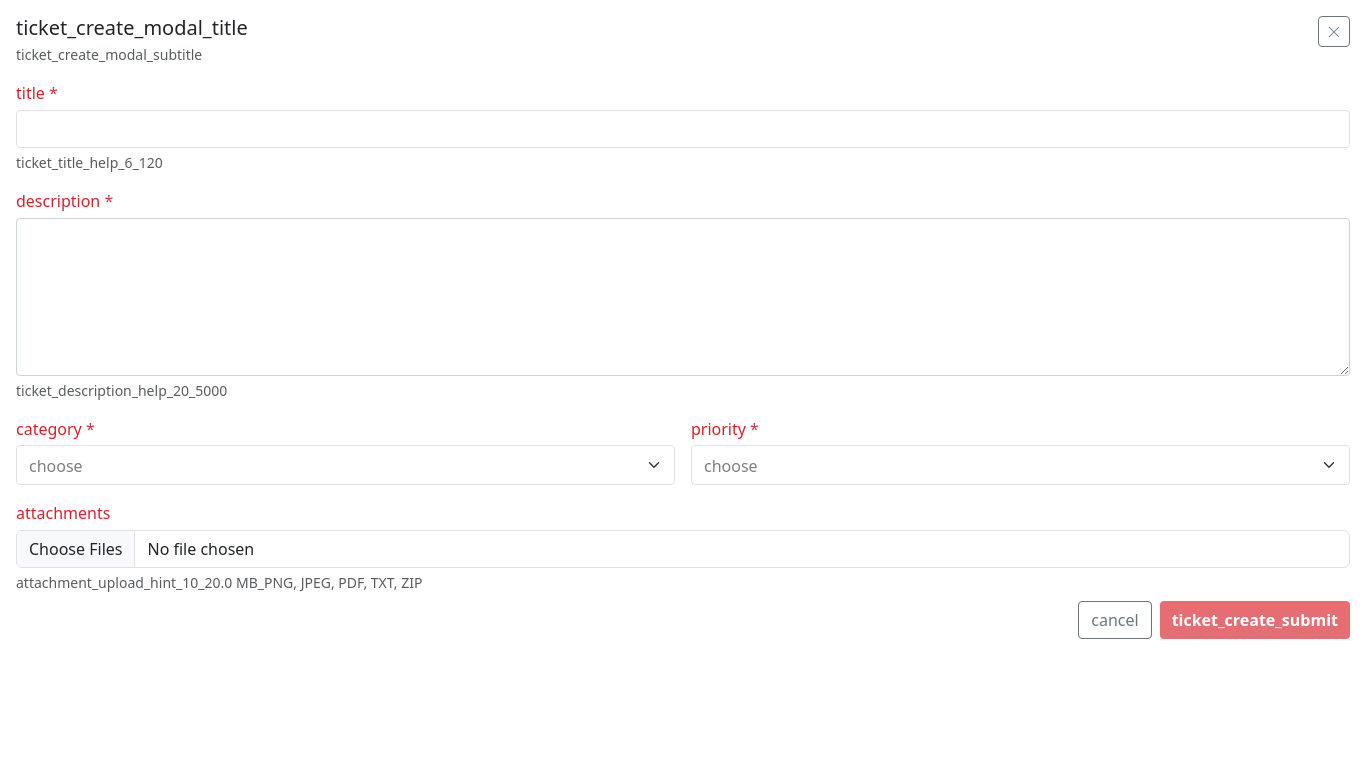
TicketFormModal › shows backend field errors and does not close modal
Type "Valid ticket title" into the field with id "ticket-title". click: (683, 129)
box: [16,110,1350,148]
Type "This is a sufficiently long description for a ticket (>= 20 chars)." into the text box with id "ticket-description". click: (683, 297)
box: [16,218,1350,376]
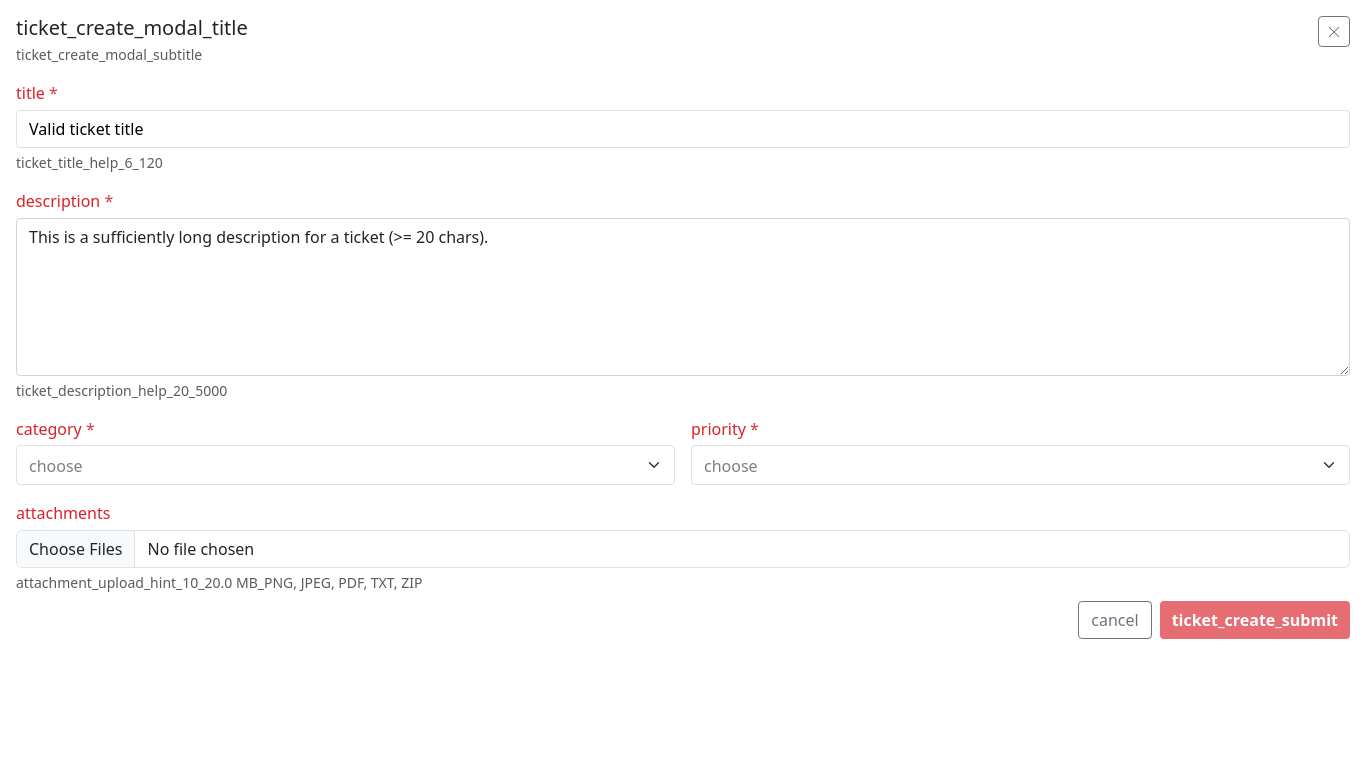
Click the button with id "ticket-category". click: click(56, 466)
box: [16,445,675,485]
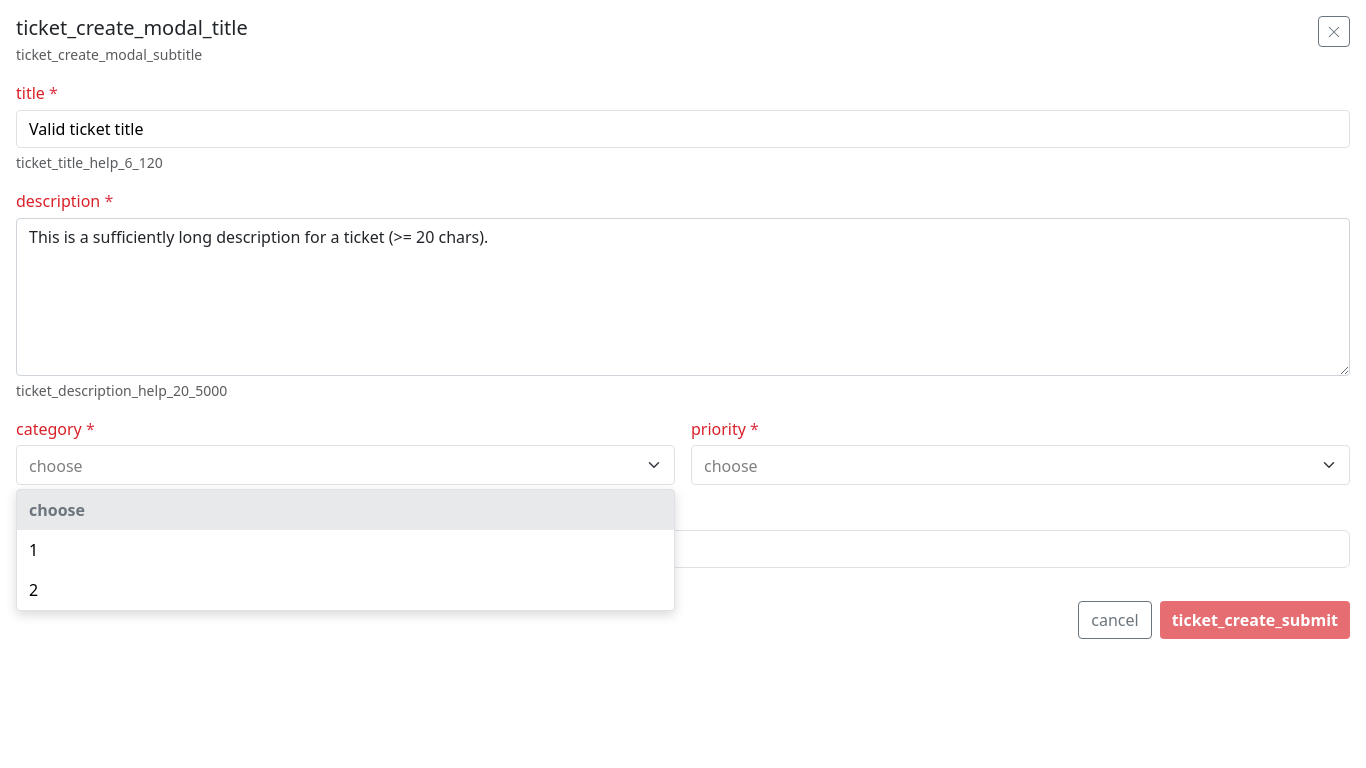
Click the option "1". click: click(34, 550)
box: [17,530,674,570]
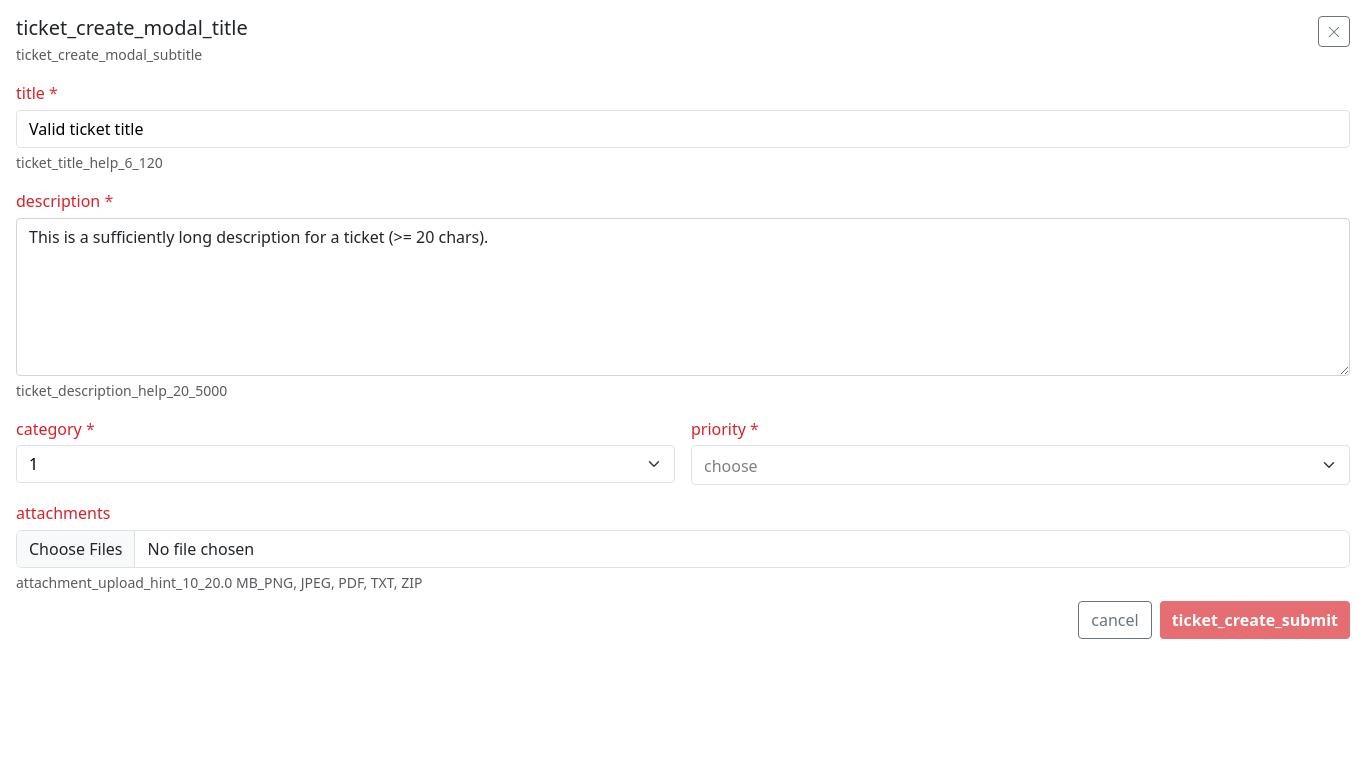
Click the button with id "ticket-priority". click: click(731, 466)
box: [691,445,1350,485]
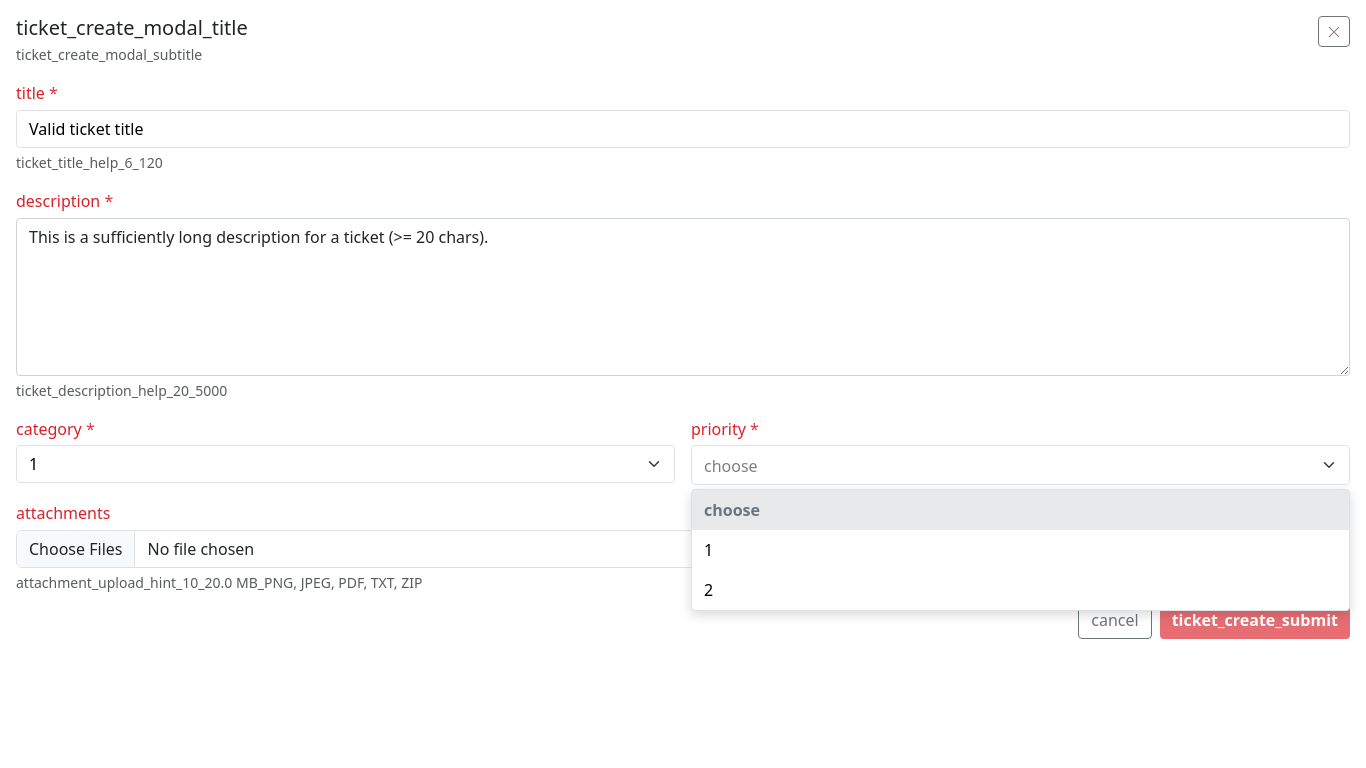
Click the option "2". click: click(709, 590)
box: [692,570,1349,610]
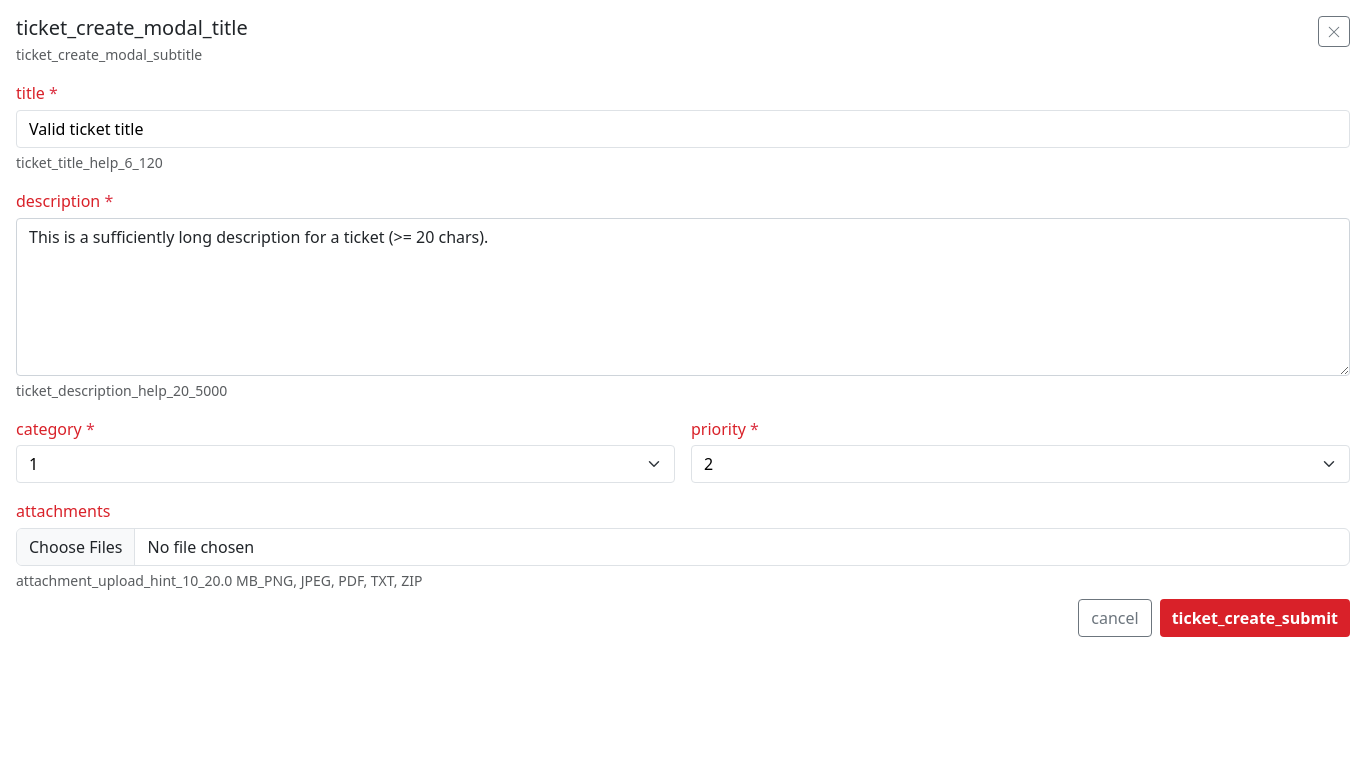
Submit the text "ticket_create_submit"
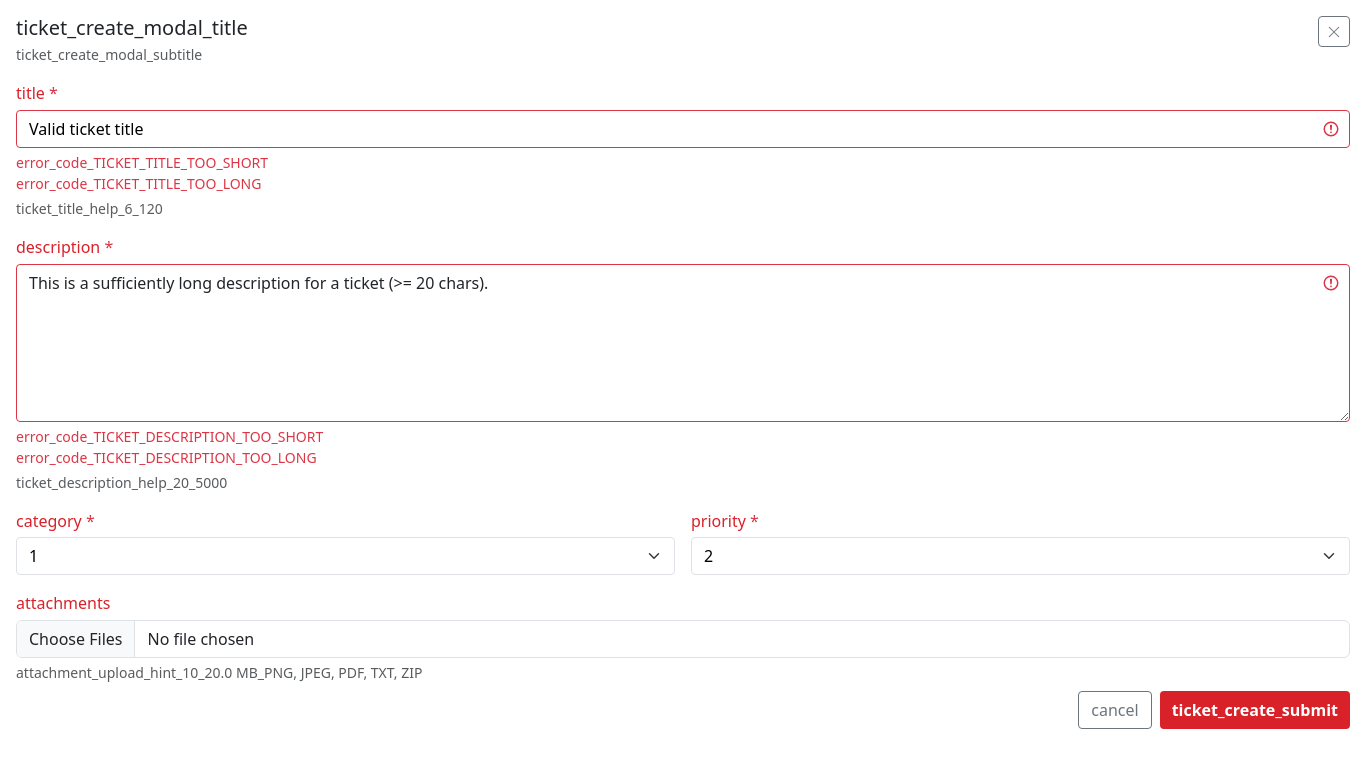
Result: the text "error_code_TICKET_TITLE_TOO_SHORT" is shown at [16,153,268,172]
Result: the text "error_code_TICKET_TITLE_TOO_LONG" is shown at [16,174,262,193]
Result: the text "error_code_TICKET_DESCRIPTION_TOO_SHORT" is shown at [16,427,323,446]
